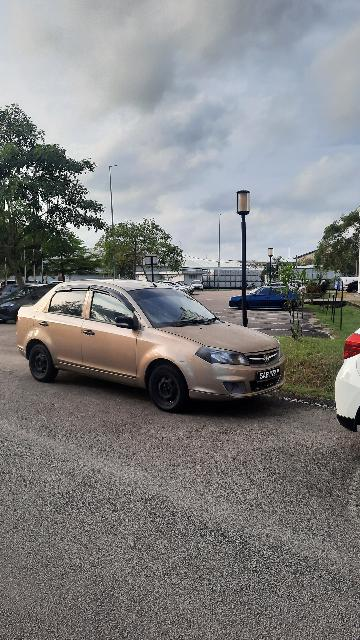License_Plate: (255, 366, 286, 385)
car: (14, 276, 290, 416)
